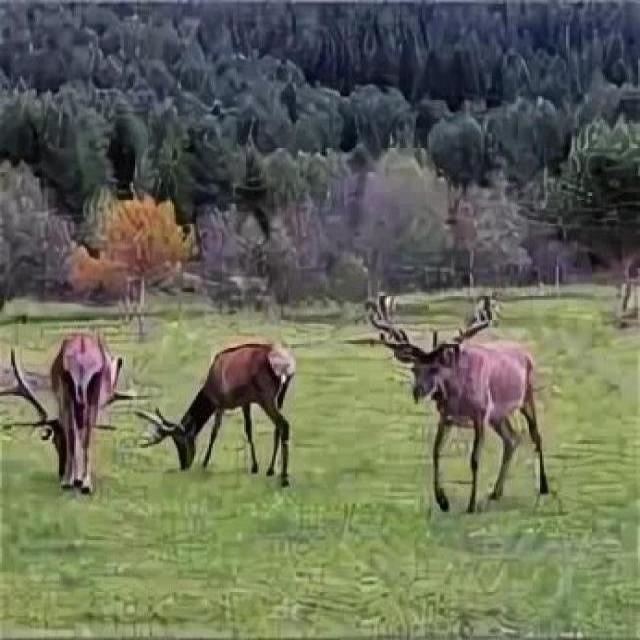deer: (346, 269, 590, 544), (0, 291, 175, 558), (162, 293, 306, 538)
